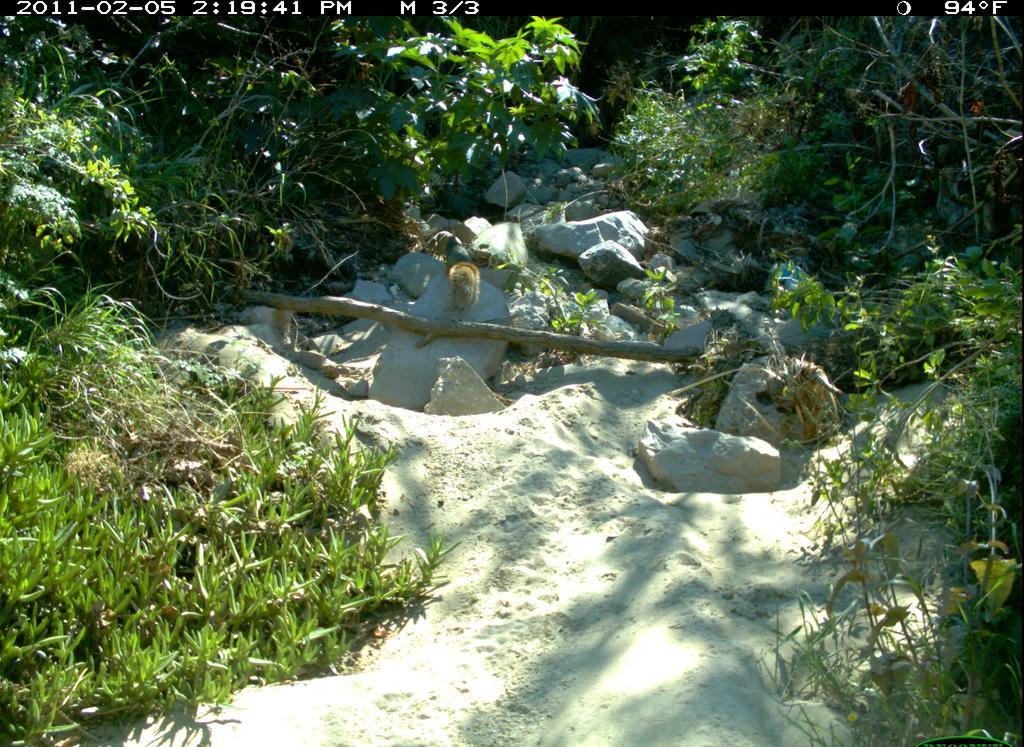squirrel: (428, 231, 486, 322)
